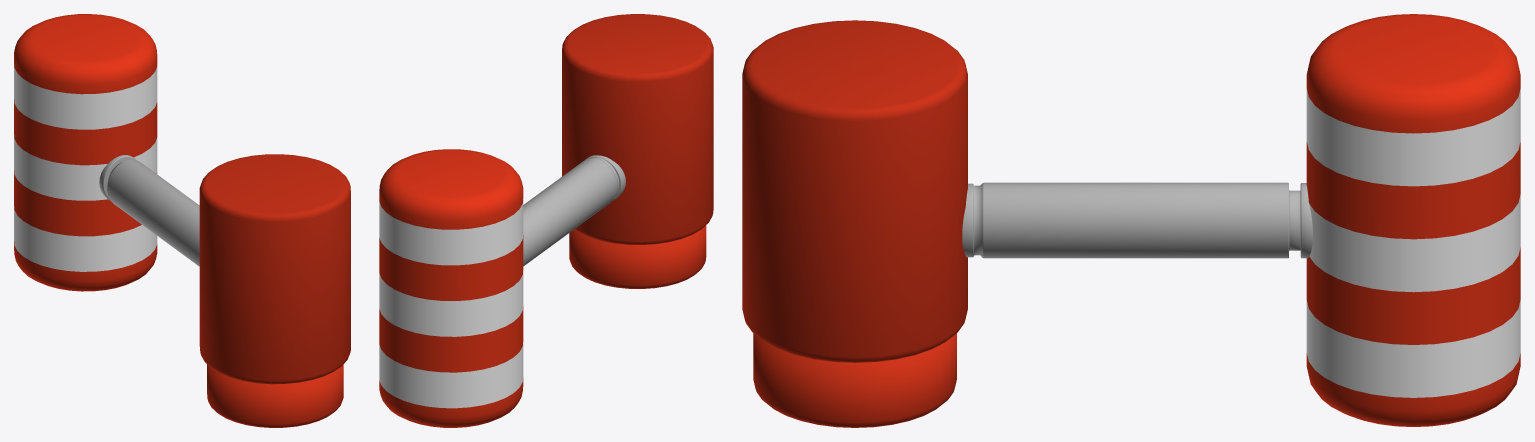
The model's file is trap_hammer.glb.
The picture shows the model from 3 angles, left to right: view 1: azimuth 30°, elevation 25°; view 2: azimuth 150°, elevation 25°; view 3: azimuth 270°, elevation 25°; orthographic projection. The views are drawn at different scales.
Parts seen in each view (by area): view 1: Cylinder.028_visual; view 2: Cylinder.028_visual; view 3: Cylinder.028_visual.
Part boxes in pixels (x1,y1,x2,y2): Cylinder.028_visual: (14,14,350,427); Cylinder.028_visual: (379,14,713,427); Cylinder.028_visual: (742,14,1520,427).
Size of what is drawn, in the model's own units: 1.36 by 2.26 by 4.68.
1 material, 1 textured.
